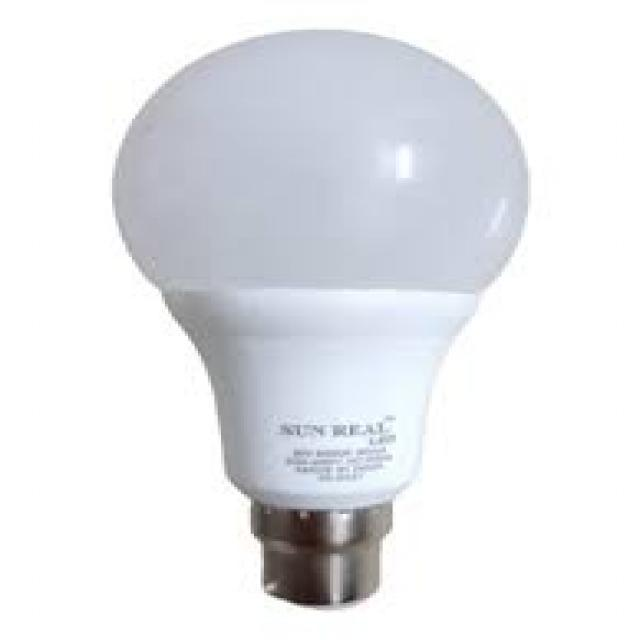bulb_off: (110, 28, 534, 604)
